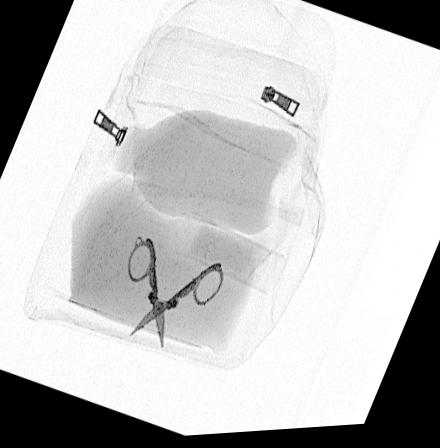Scissors: (127, 236, 226, 355)
